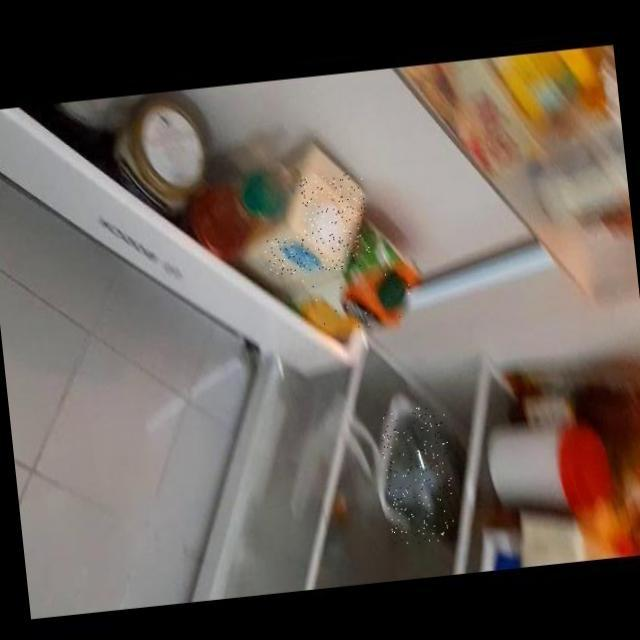Brocoli: (377, 405, 457, 547)
juice: (301, 267, 412, 332)
milk: (257, 171, 370, 277)
sauce: (193, 160, 304, 246)
